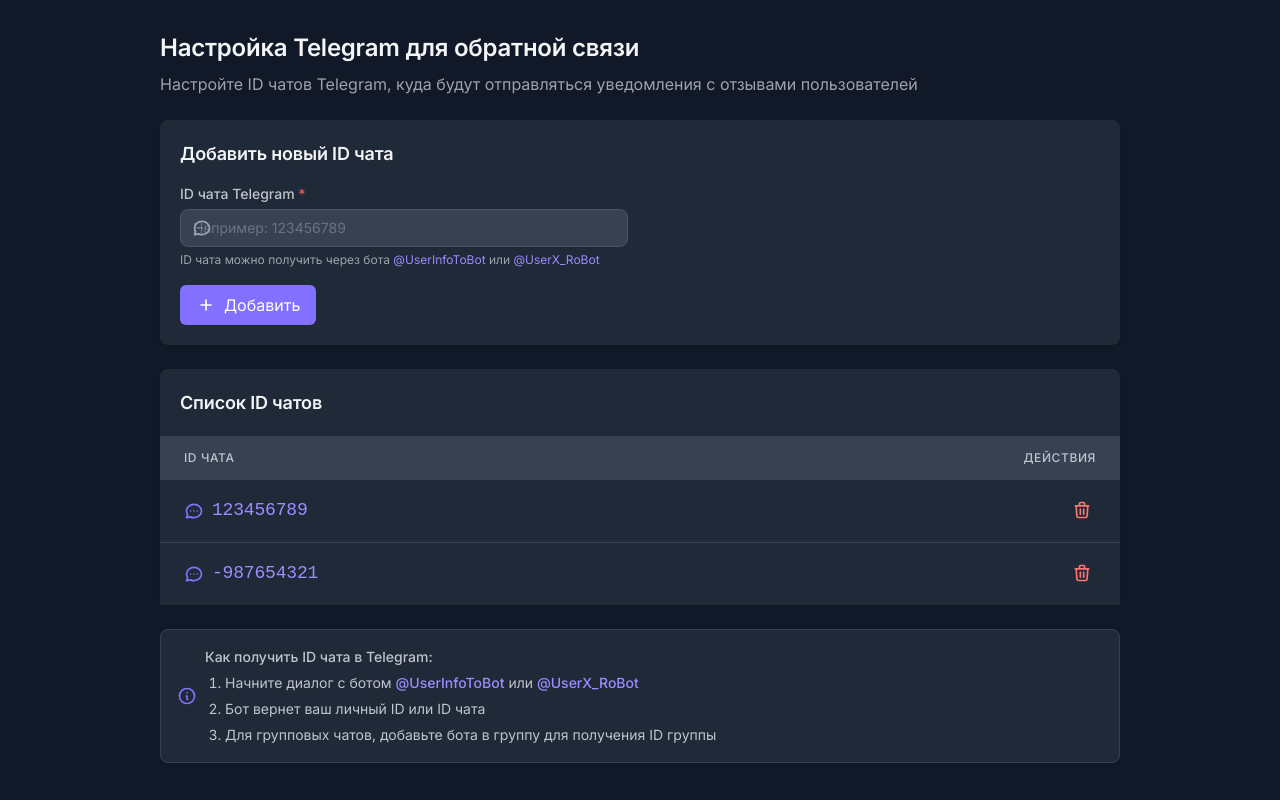
Test: TelegramConfig › должен показывать ошибку при вводе невалидного ID чата
This screenshot has width=1280, height=800.
Note: Находим поле ввода и вводим невалидное значение
Type "не_число" into the field with placeholder "Например: 123456789". click: (404, 228)
box: left=180, top=209, right=628, bottom=247
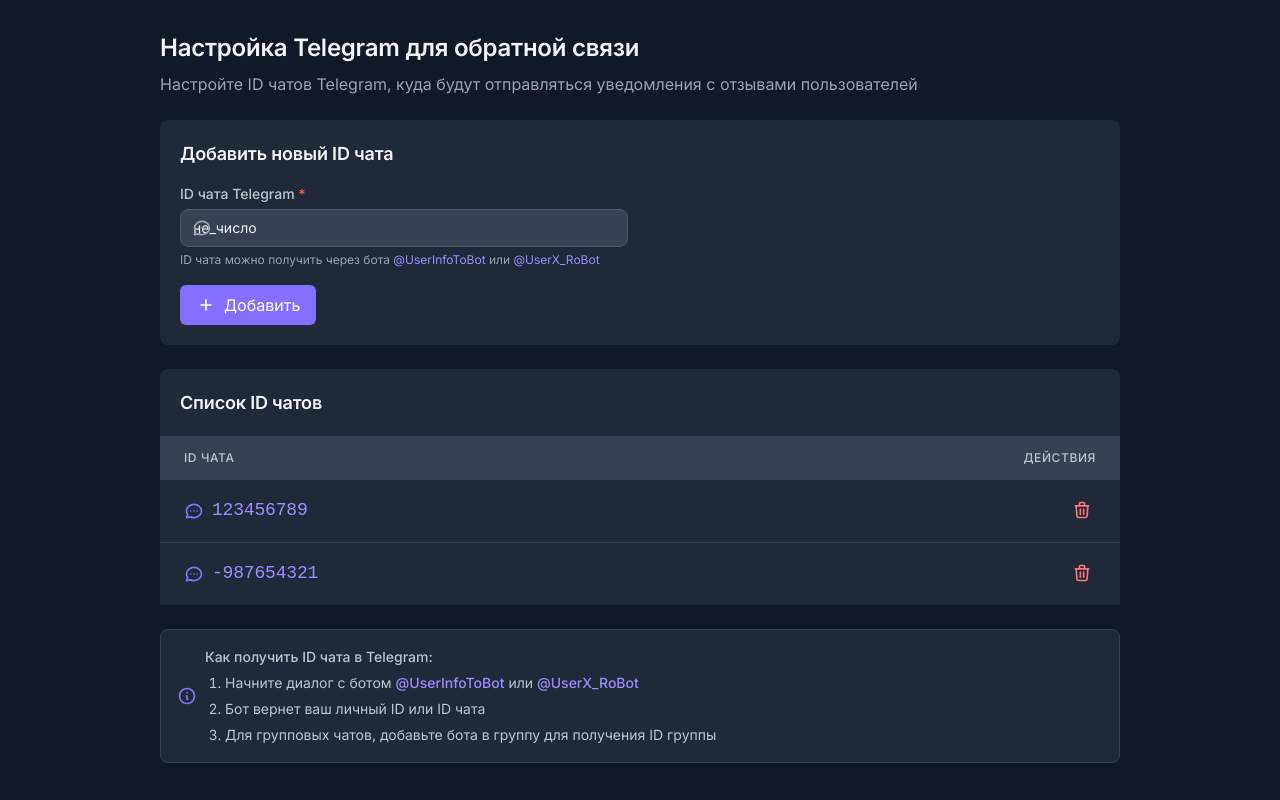
Note: Нажимаем кнопку "Добавить"
Click the button "Добавить". click: (248, 305)
box: left=180, top=285, right=316, bottom=325
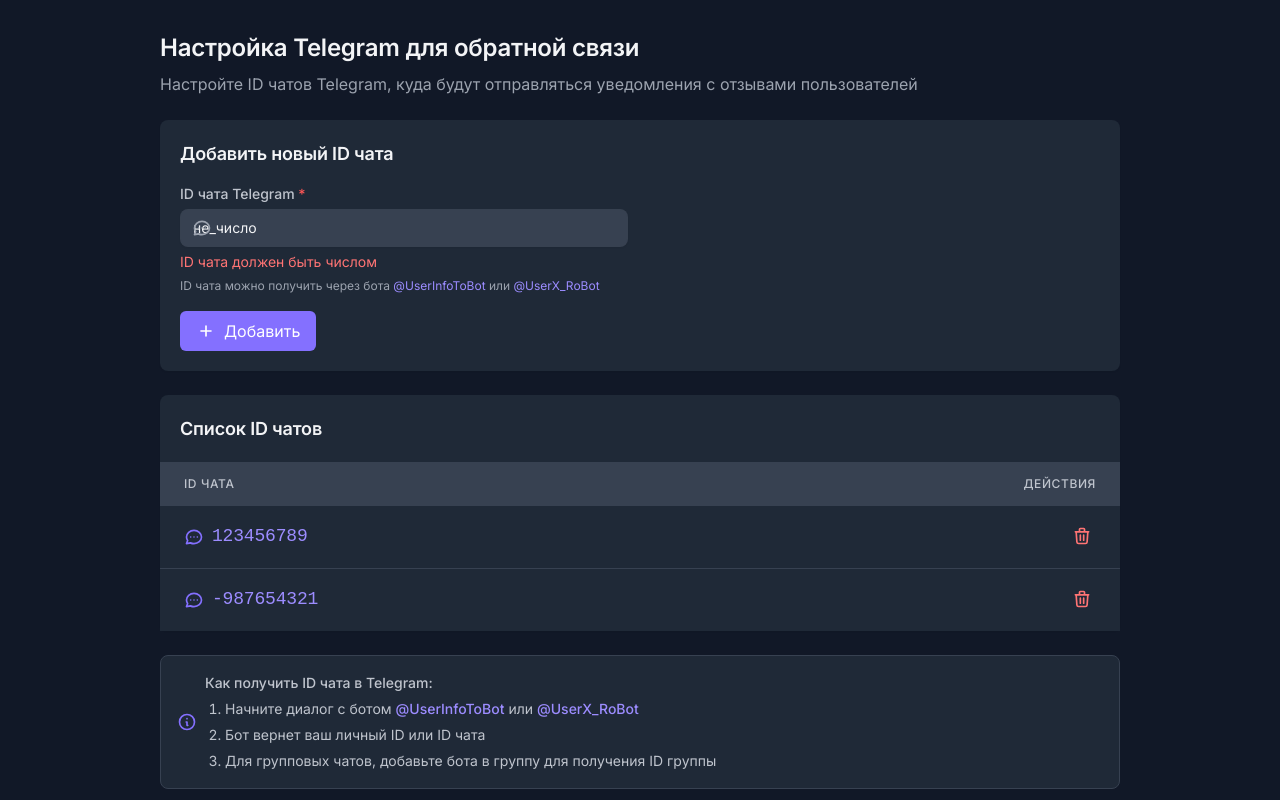
Now the text "ID чата должен быть числом" is shown, box left=180, top=253, right=377, bottom=270
